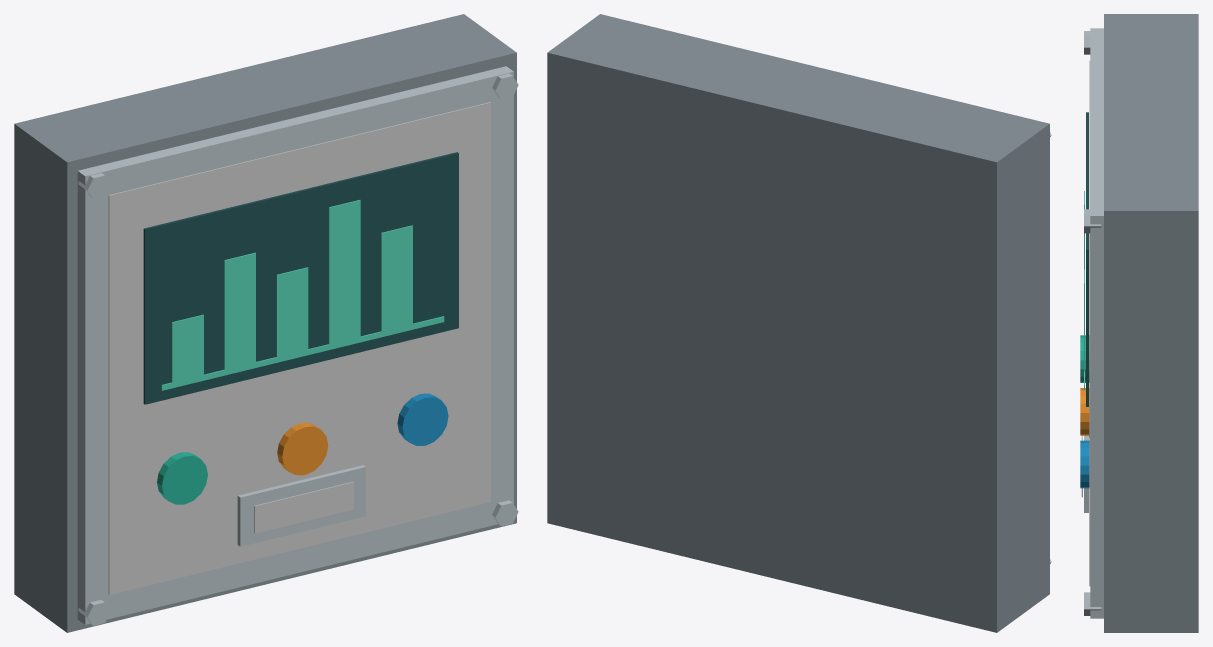
The model's file is body.obj.
The picture shows the model from 3 angles, left to right: view 1: azimuth 30°, elevation 25°; view 2: azimuth 150°, elevation 25°; view 3: azimuth 270°, elevation 25°; orthographic projection. The views are drawn at different scales.
Bounding box in the file's own units: 0.86 × 0.86 × 0.219.
